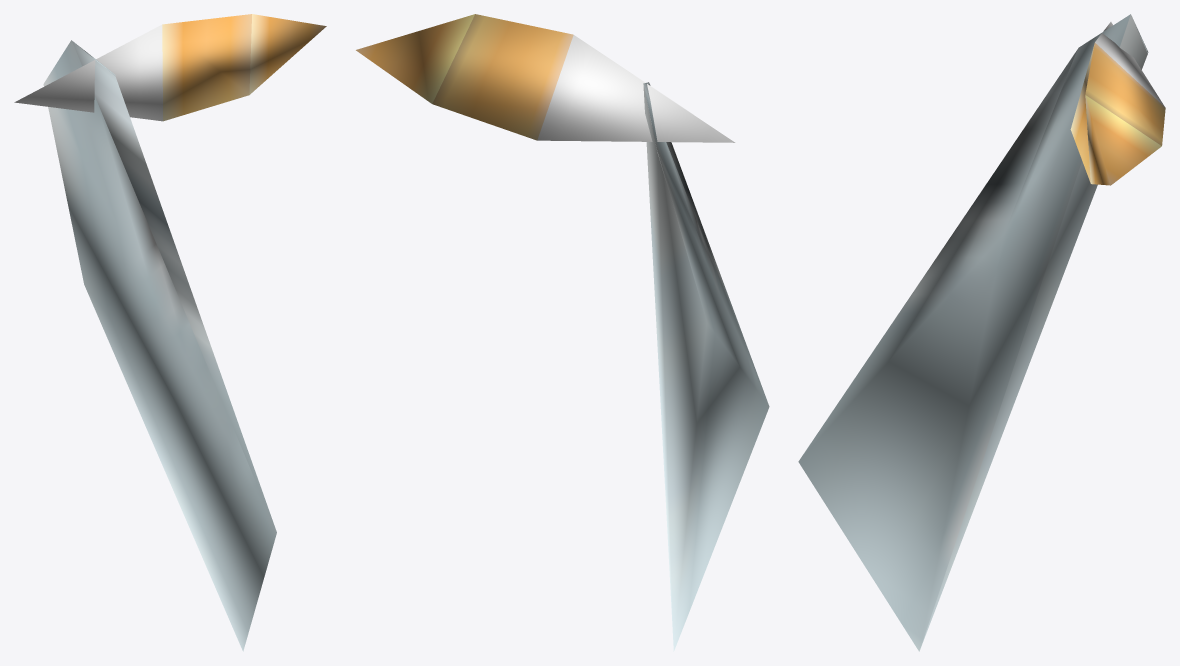
Rendered from main_lever_right.obj.
3 views of the same model, side by side, from view 1: azimuth 30°, elevation 25°; view 2: azimuth 150°, elevation 25°; view 3: azimuth 270°, elevation 25° (orthographic). The views are drawn at different scales.
Visible parts, largest first — view 1: 8.Console_Main_Lever_Right; view 2: 8.Console_Main_Lever_Right; view 3: 8.Console_Main_Lever_Right.
Part boxes in pixels (<box>): 8.Console_Main_Lever_Right: <box>14,14,326,651</box>; 8.Console_Main_Lever_Right: <box>356,14,769,651</box>; 8.Console_Main_Lever_Right: <box>798,14,1165,651</box>.
Bounding box in the file's own units: 0.0872 × 0.1512 × 0.0825.
1 material, 1 textured.
